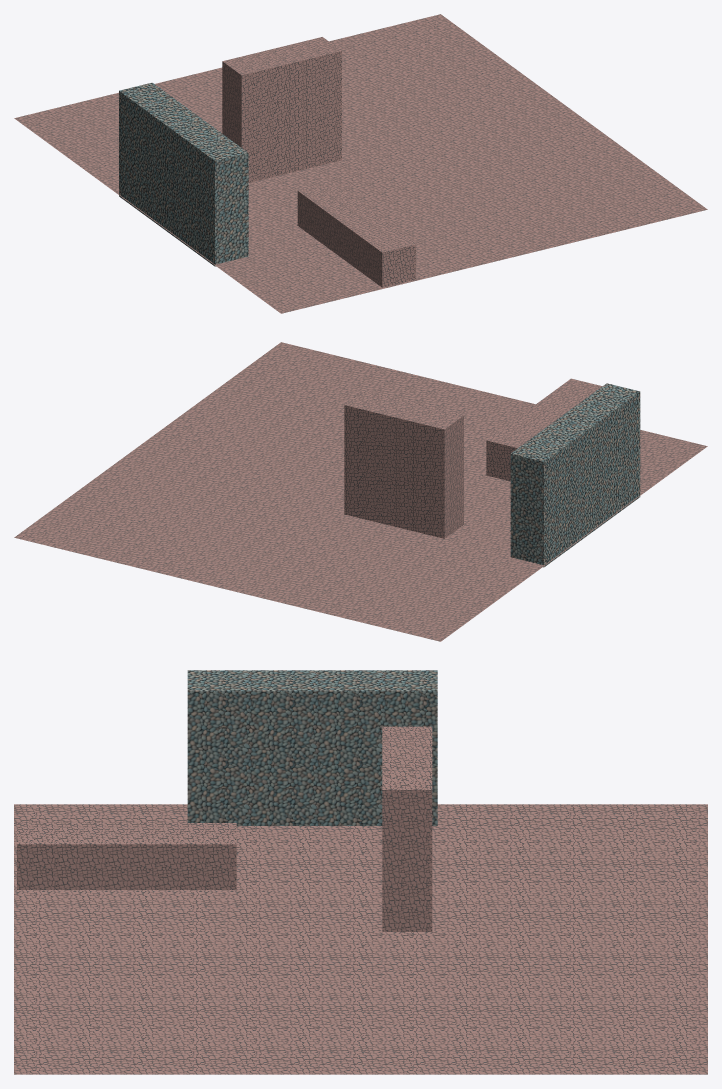
Rendered from platform.glb.
The picture shows the model from 3 angles, top to bottom: view 1: azimuth 30°, elevation 25°; view 2: azimuth 150°, elevation 25°; view 3: azimuth 270°, elevation 25°; orthographic projection. The views are drawn at different scales.
Visible parts, largest first — view 1: Cube; view 2: Cube; view 3: Cube.
Boxes of the visible parts, x1,y1,x2,y2 form: Cube: (14, 14, 707, 313); Cube: (14, 342, 707, 641); Cube: (14, 670, 707, 1074).
Bounding box in the file's own units: 25.47 × 6.37 × 27.61.
Materials: 2 (2 with a texture image).
